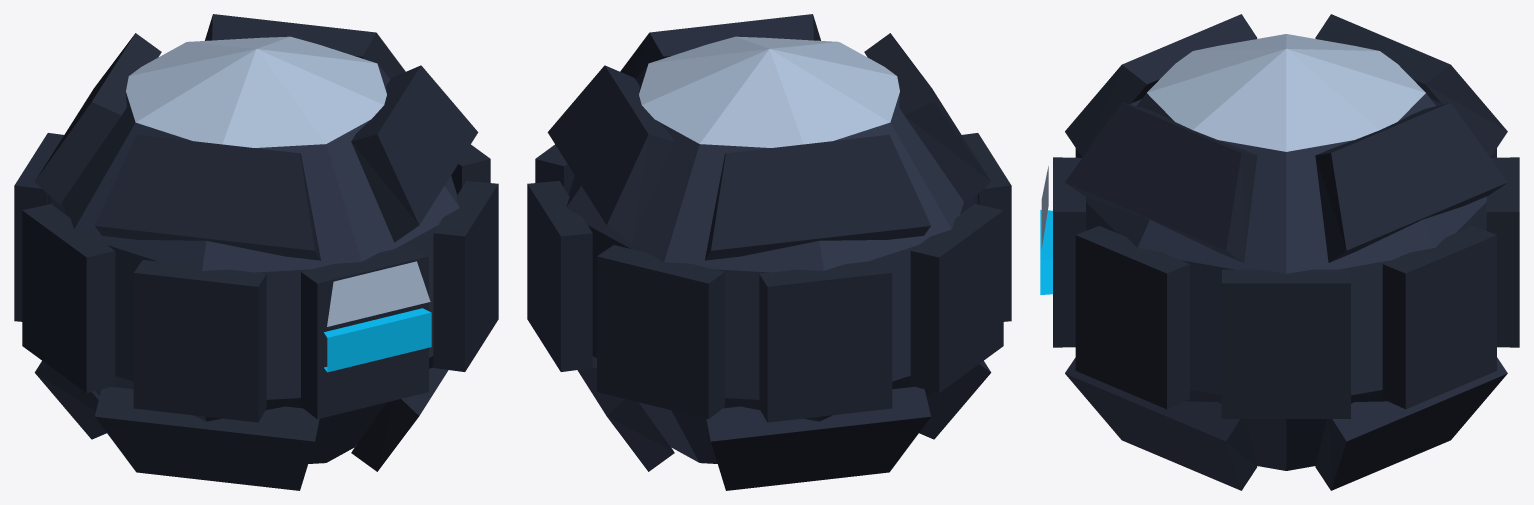
File: SM_Chassis_Bulwark_01.obj
3 renders of one model, left to right at view 1: azimuth 30°, elevation 25°; view 2: azimuth 150°, elevation 25°; view 3: azimuth 270°, elevation 25°, orthographic.
Parts seen in each view (by area): view 1: SM_Chassis_Bulwark_01__MAT_DarkNeutral, SM_Chassis_Bulwark_01__MAT_AltNeutral, SM_Chassis_Bulwark_01__MAT_LightTrim, SM_Chassis_Bulwark_01__EMI_Cyan; view 2: SM_Chassis_Bulwark_01__MAT_DarkNeutral, SM_Chassis_Bulwark_01__MAT_AltNeutral, SM_Chassis_Bulwark_01__MAT_LightTrim; view 3: SM_Chassis_Bulwark_01__MAT_DarkNeutral, SM_Chassis_Bulwark_01__MAT_AltNeutral, SM_Chassis_Bulwark_01__MAT_LightTrim, SM_Chassis_Bulwark_01__EMI_Cyan.
Part boxes in pixels (box(x1,y1,x2,y2)): SM_Chassis_Bulwark_01__MAT_DarkNeutral: box(14, 14, 498, 490); SM_Chassis_Bulwark_01__MAT_AltNeutral: box(50, 64, 459, 463); SM_Chassis_Bulwark_01__MAT_LightTrim: box(126, 36, 430, 326); SM_Chassis_Bulwark_01__EMI_Cyan: box(324, 308, 431, 372); SM_Chassis_Bulwark_01__MAT_DarkNeutral: box(527, 14, 1011, 490); SM_Chassis_Bulwark_01__MAT_AltNeutral: box(566, 64, 975, 463); SM_Chassis_Bulwark_01__MAT_LightTrim: box(639, 36, 899, 147); SM_Chassis_Bulwark_01__MAT_DarkNeutral: box(1053, 14, 1519, 490); SM_Chassis_Bulwark_01__MAT_AltNeutral: box(1086, 93, 1486, 470); SM_Chassis_Bulwark_01__MAT_LightTrim: box(1041, 34, 1425, 248); SM_Chassis_Bulwark_01__EMI_Cyan: box(1040, 210, 1052, 294).
Bounding box in the file's own units: 5.44 × 5.24 × 5.59.
Materials: 4 (4 with a texture image).
